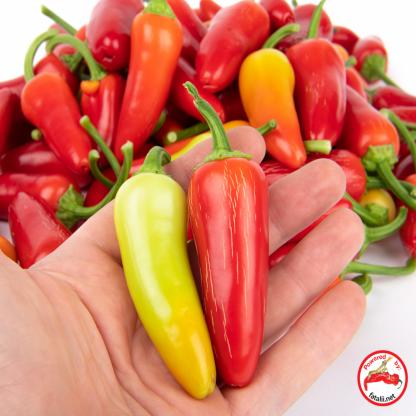--: (183, 76, 278, 396), (117, 141, 227, 401), (111, 0, 185, 173), (238, 20, 321, 162)
